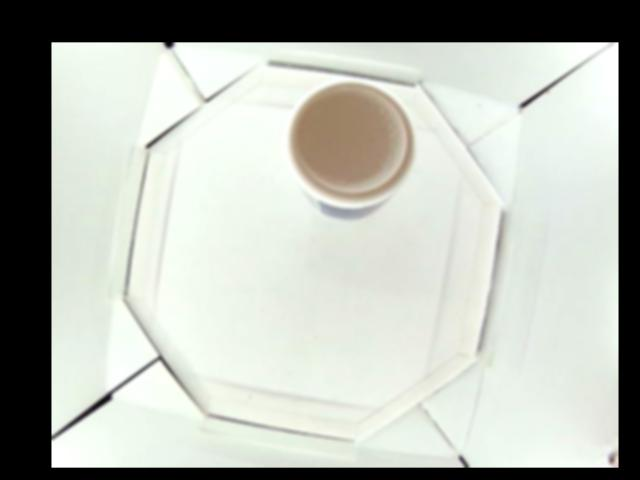Bottle: (282, 77, 411, 220)
